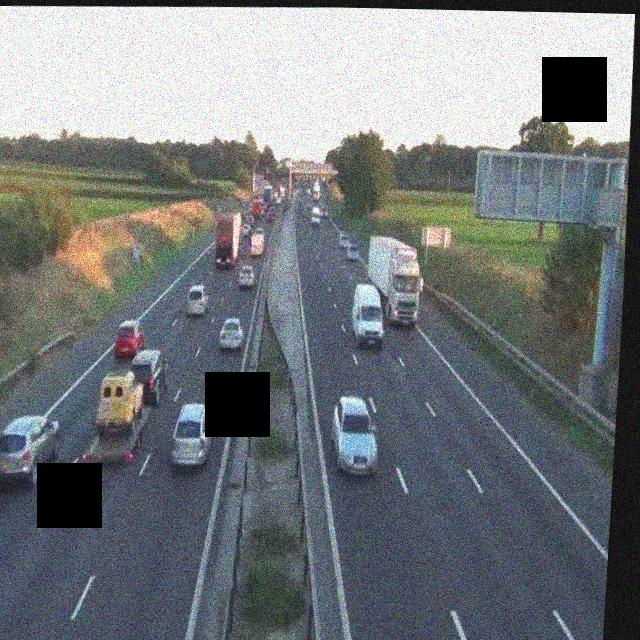car: (0, 415, 60, 489), (330, 394, 380, 476), (169, 401, 216, 468), (124, 345, 169, 407), (113, 320, 146, 361), (217, 318, 244, 349), (184, 284, 209, 317), (237, 264, 255, 288), (343, 239, 358, 260), (339, 233, 352, 248), (241, 221, 252, 237)
truck: (359, 233, 427, 327), (88, 370, 151, 462), (348, 281, 387, 349), (214, 212, 241, 268), (250, 186, 264, 215), (249, 231, 264, 258), (310, 204, 321, 226)
